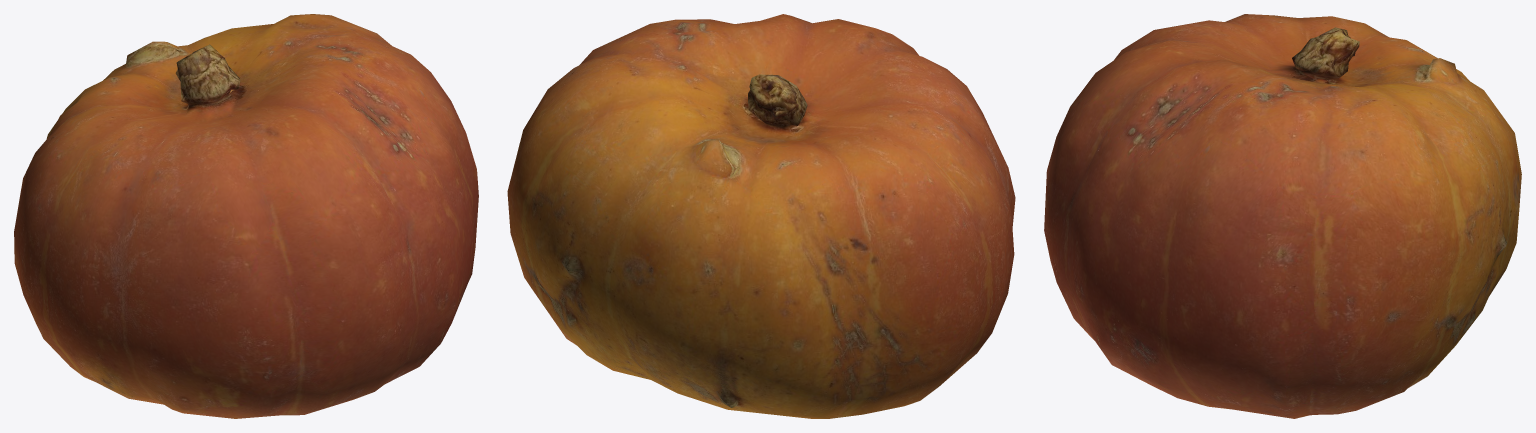
The model's file is pumpkin_a.gltf.
3 views of the same model, side by side, from view 1: azimuth 30°, elevation 25°; view 2: azimuth 150°, elevation 25°; view 3: azimuth 270°, elevation 25° (orthographic). The views are drawn at different scales.
Visible parts, largest first — view 1: pumpkin_a2; view 2: pumpkin_a2; view 3: pumpkin_a2.
Part boxes in pixels (left/top/right/bottom): pumpkin_a2: left=14, top=14, right=478, bottom=418; pumpkin_a2: left=507, top=14, right=1015, bottom=418; pumpkin_a2: left=1044, top=14, right=1521, bottom=418.
Size of the model in its own units: 100 by 70.44 by 93.44.
Materials: 1 (1 with a texture image).
